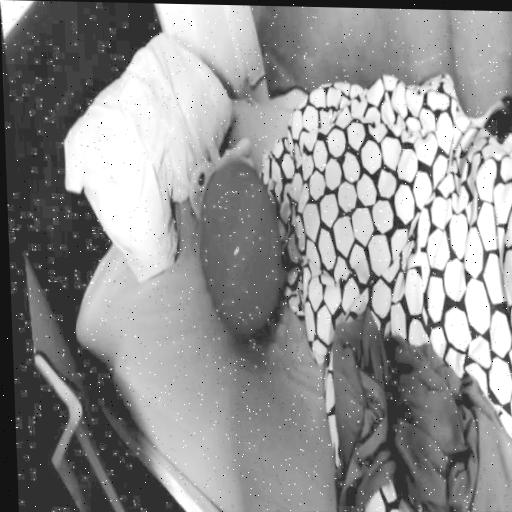balloon: (188, 157, 291, 332)
